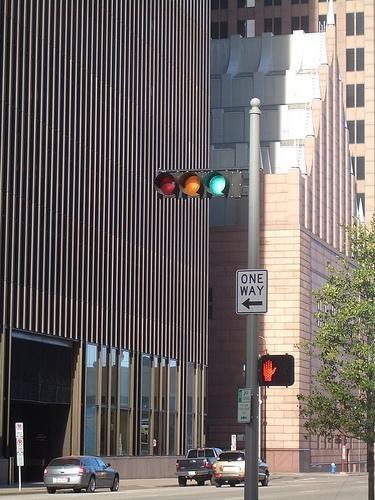car: (44, 455, 120, 494), (213, 451, 270, 486)
truck: (175, 448, 223, 486)
